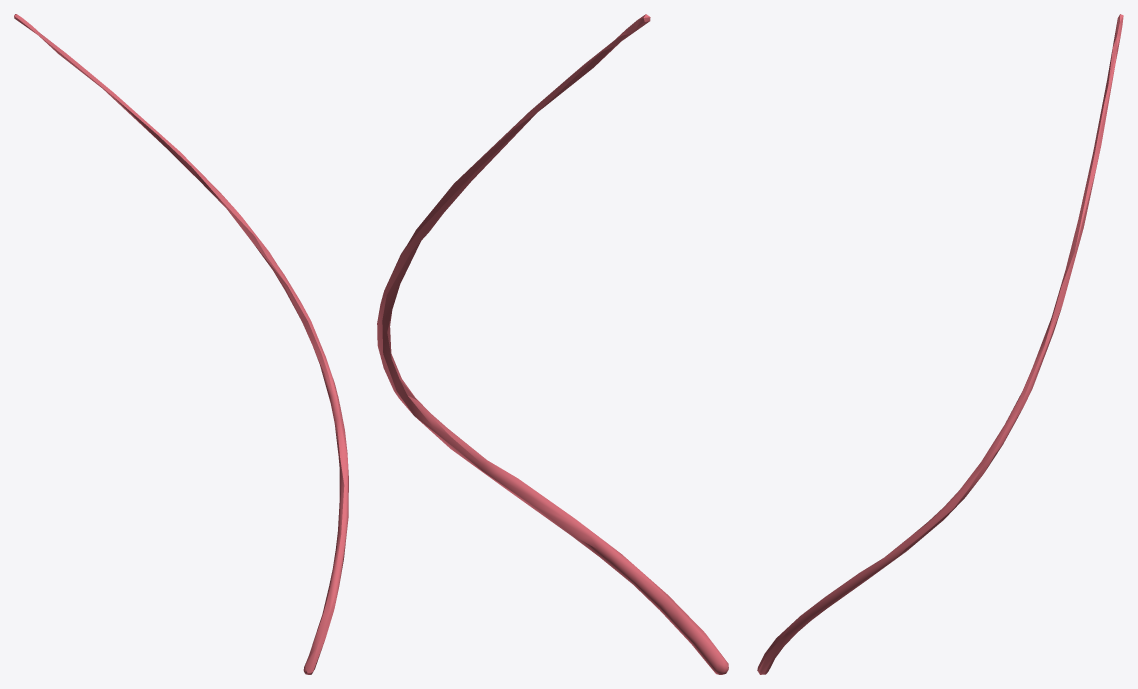
The model's file is fma50425_fj5220.glb.
3 views of the same model, side by side, from view 1: azimuth 30°, elevation 25°; view 2: azimuth 150°, elevation 25°; view 3: azimuth 270°, elevation 25° (orthographic). The views are drawn at different scales.
Visible parts, largest first — view 1: FMA50425_FJ5220; view 2: FMA50425_FJ5220; view 3: FMA50425_FJ5220.
Boxes of the visible parts, left/top/right/bottom form: FMA50425_FJ5220: left=14, top=14, right=348, bottom=674; FMA50425_FJ5220: left=377, top=14, right=728, bottom=674; FMA50425_FJ5220: left=757, top=14, right=1123, bottom=674.
Bounding box in the file's own units: 0.0095 × 0.0218 × 0.0121.
